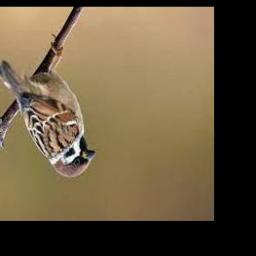Sparrow: (0, 39, 95, 177)
